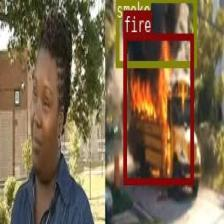fire: (123, 33, 193, 183)
smoke: (115, 0, 196, 65)
